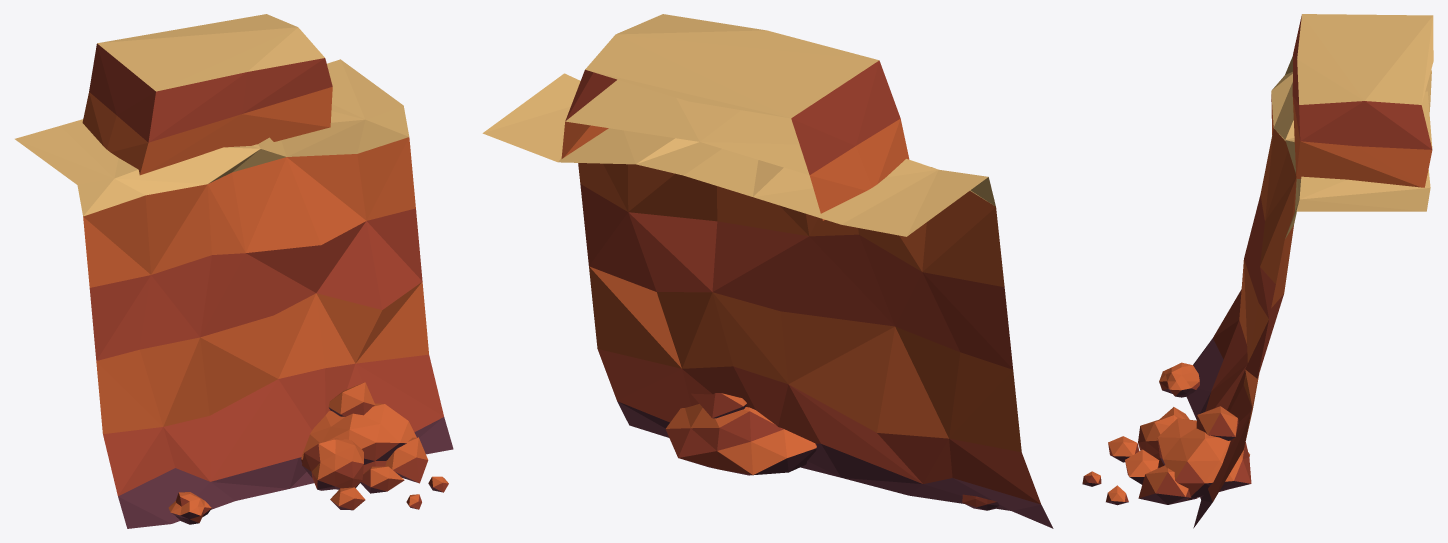
The model's file is Mtn_Wall_B.fbx.
3 renders of one model, left to right at view 1: azimuth 30°, elevation 25°; view 2: azimuth 150°, elevation 25°; view 3: azimuth 270°, elevation 25°, orthographic. The views are drawn at different scales.
Parts seen in each view (by area): view 1: Mtn_Wall_B; view 2: Mtn_Wall_B; view 3: Mtn_Wall_B.
Part boxes in pixels (left/top/right/bottom): Mtn_Wall_B: left=15, top=14, right=453, bottom=528; Mtn_Wall_B: left=482, top=14, right=1053, bottom=528; Mtn_Wall_B: left=1082, top=14, right=1433, bottom=528.
Bounding box in the file's own units: 20 × 22.24 × 18.05.
